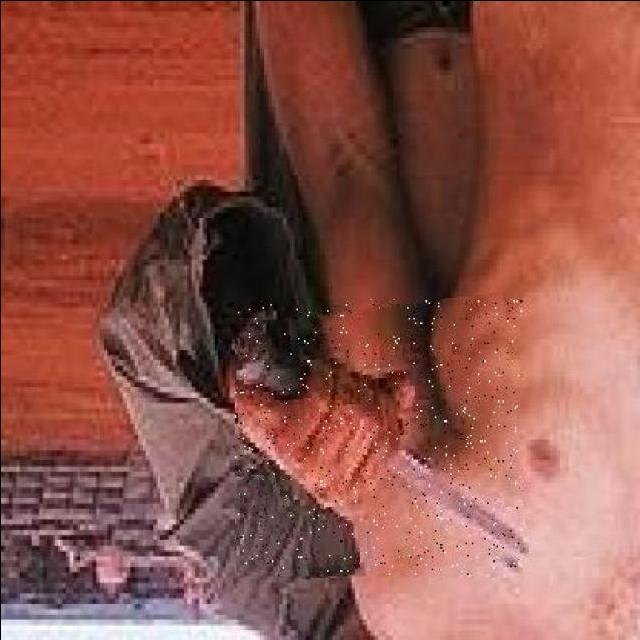Knife: (232, 298, 520, 576)
